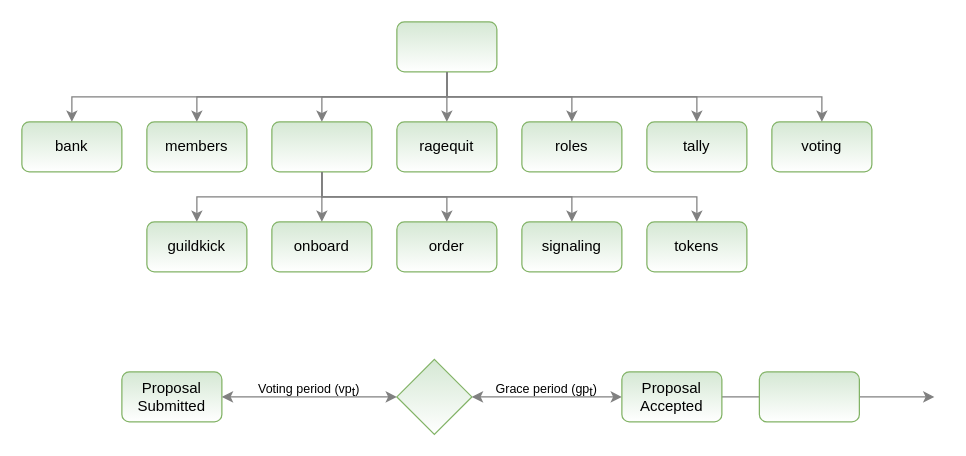
This 966x456 diagram has some shape labels left out. Here are the shapes that lost their labels. From the top down, the centre of each, then its label:
At (x=446, y=46): "main".
At (x=321, y=146): "proposals".
At (x=434, y=396): "if Yes > 50%".
At (x=808, y=396): "Proposal Processed".
